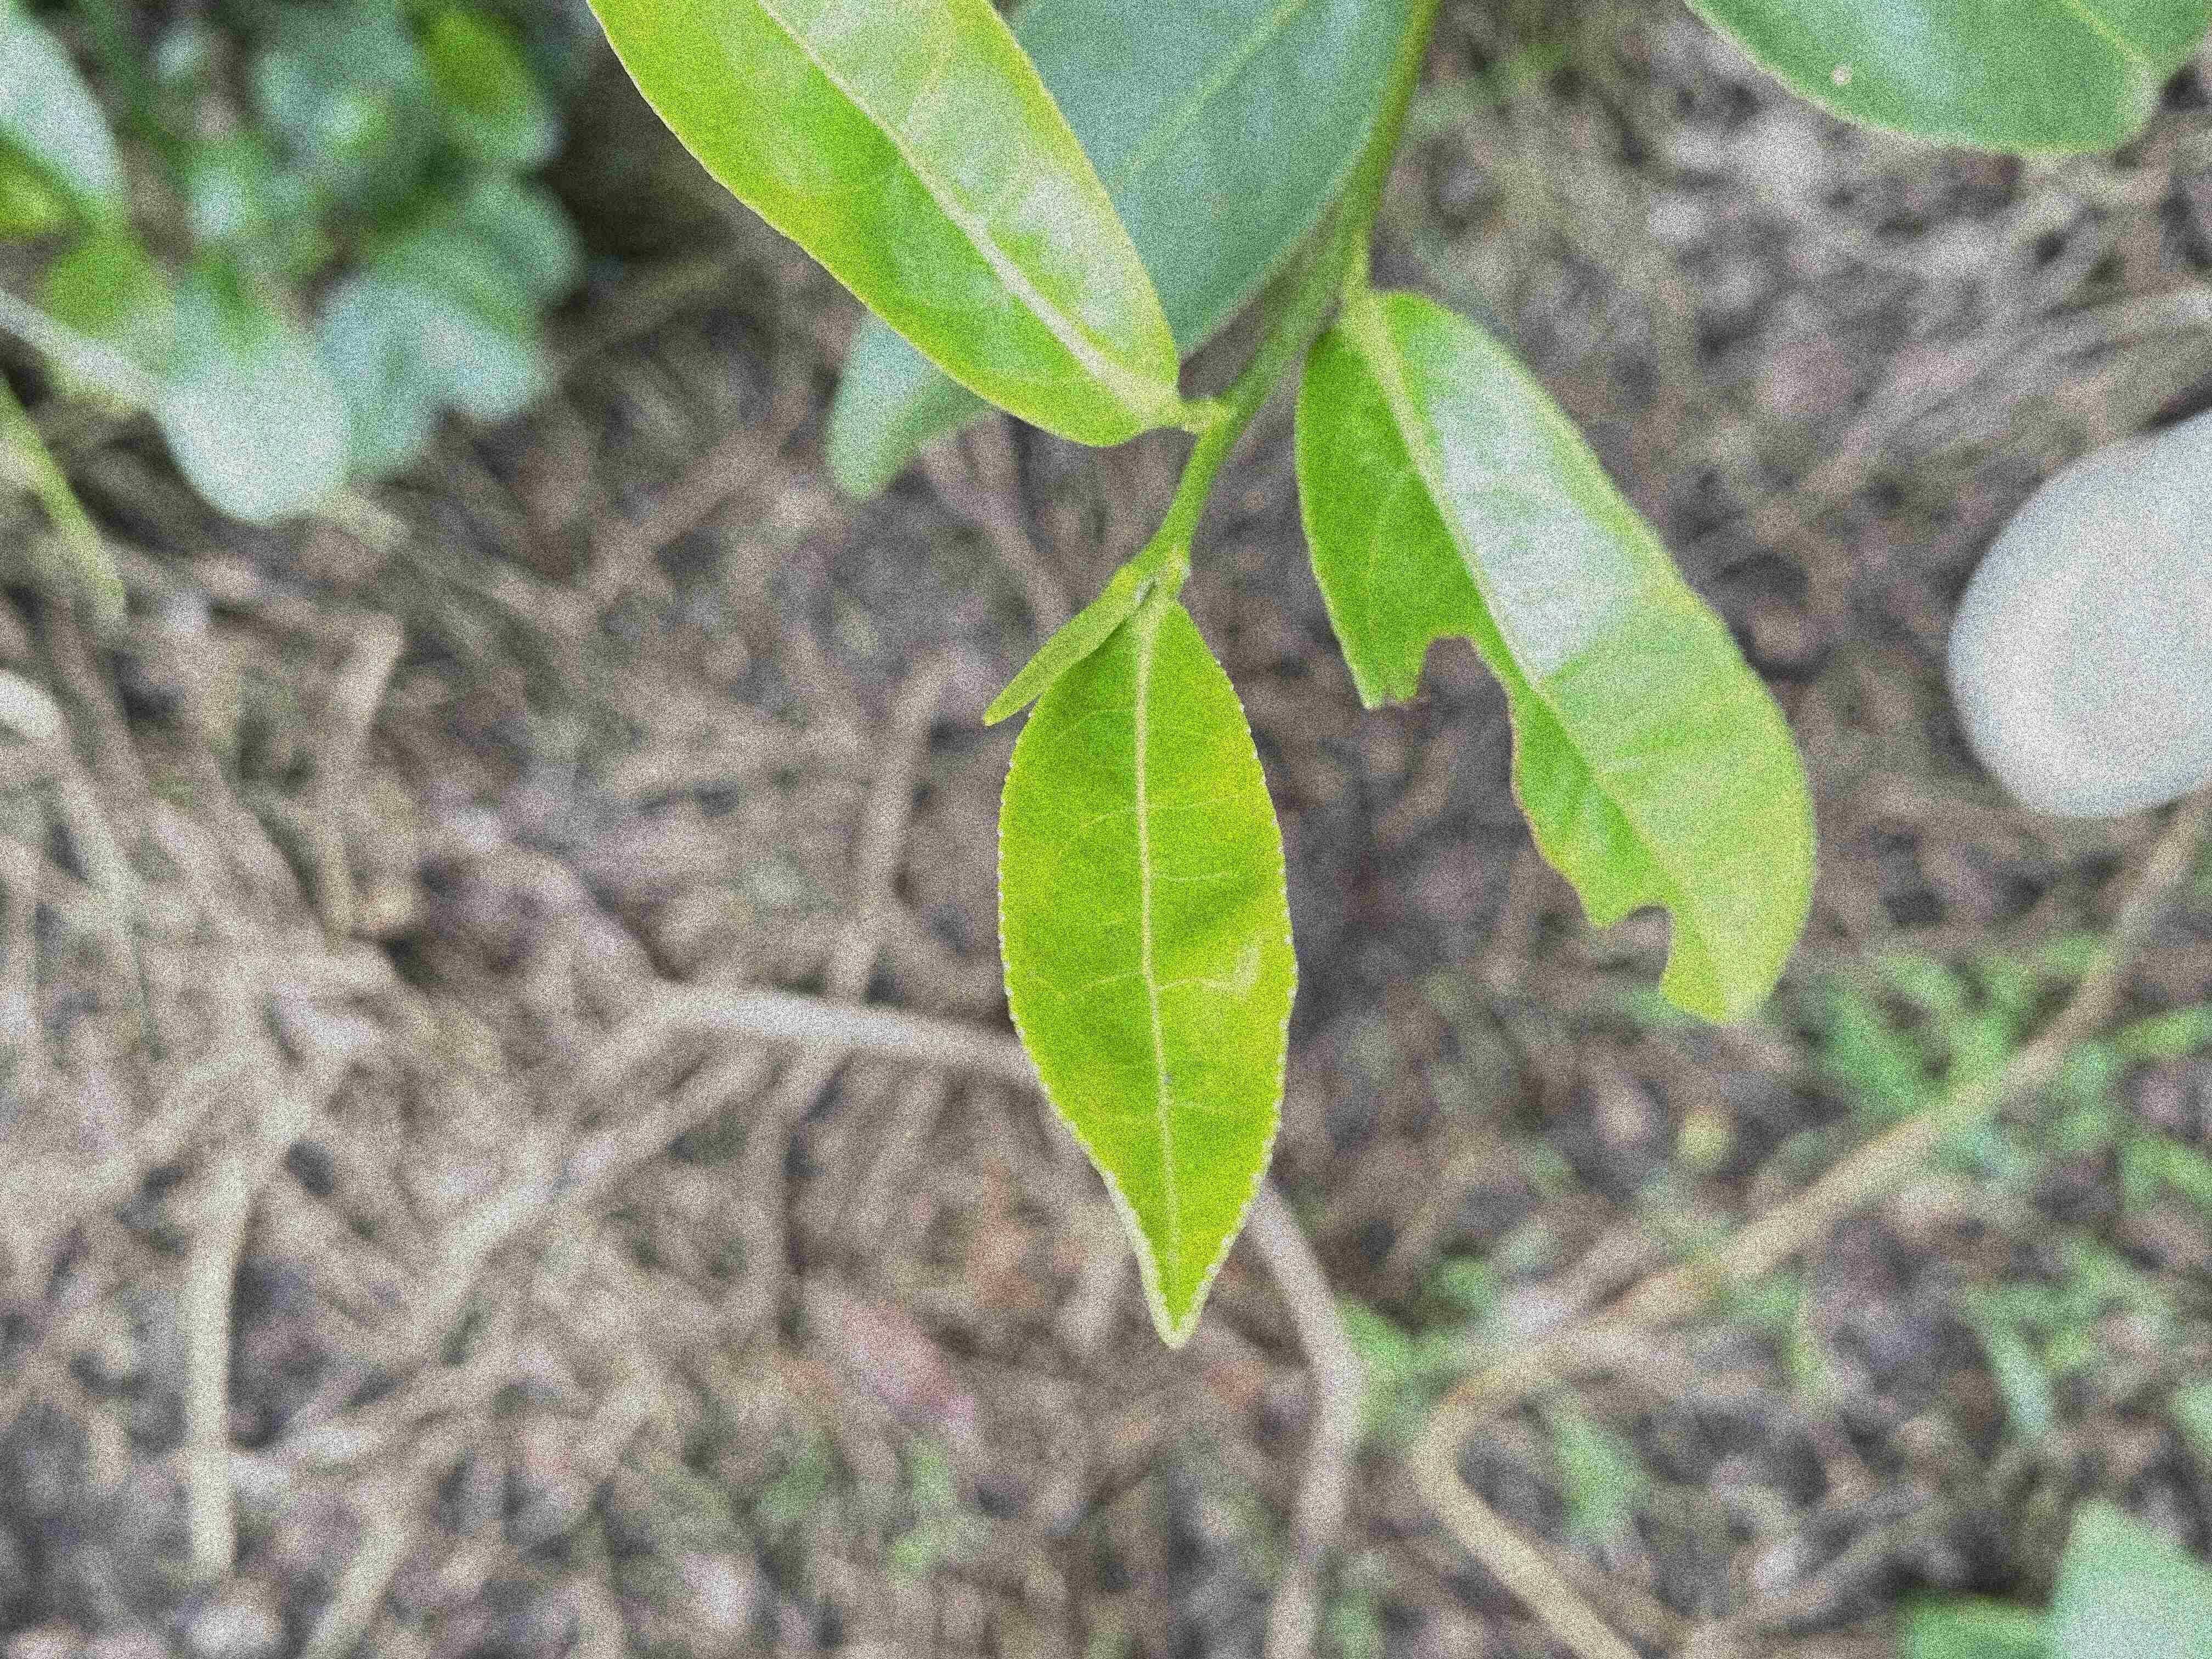chihuo_high: (1294, 286, 1820, 1030)
healthy: (583, 0, 1184, 450), (995, 596, 1299, 1347)
